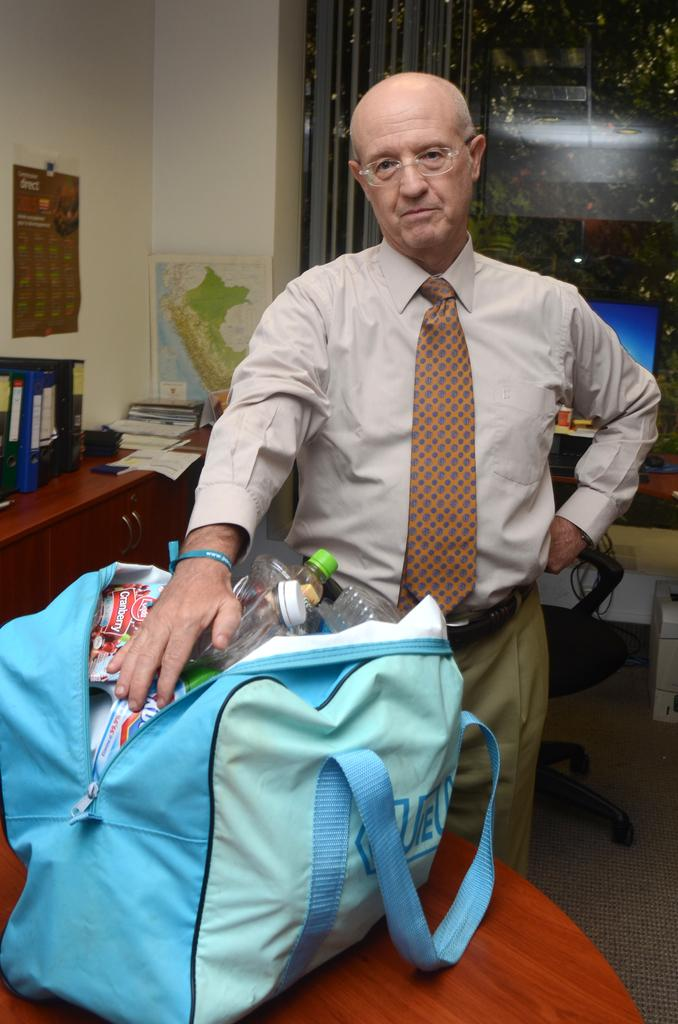Luggage-and-bags: (65, 483, 544, 996)
